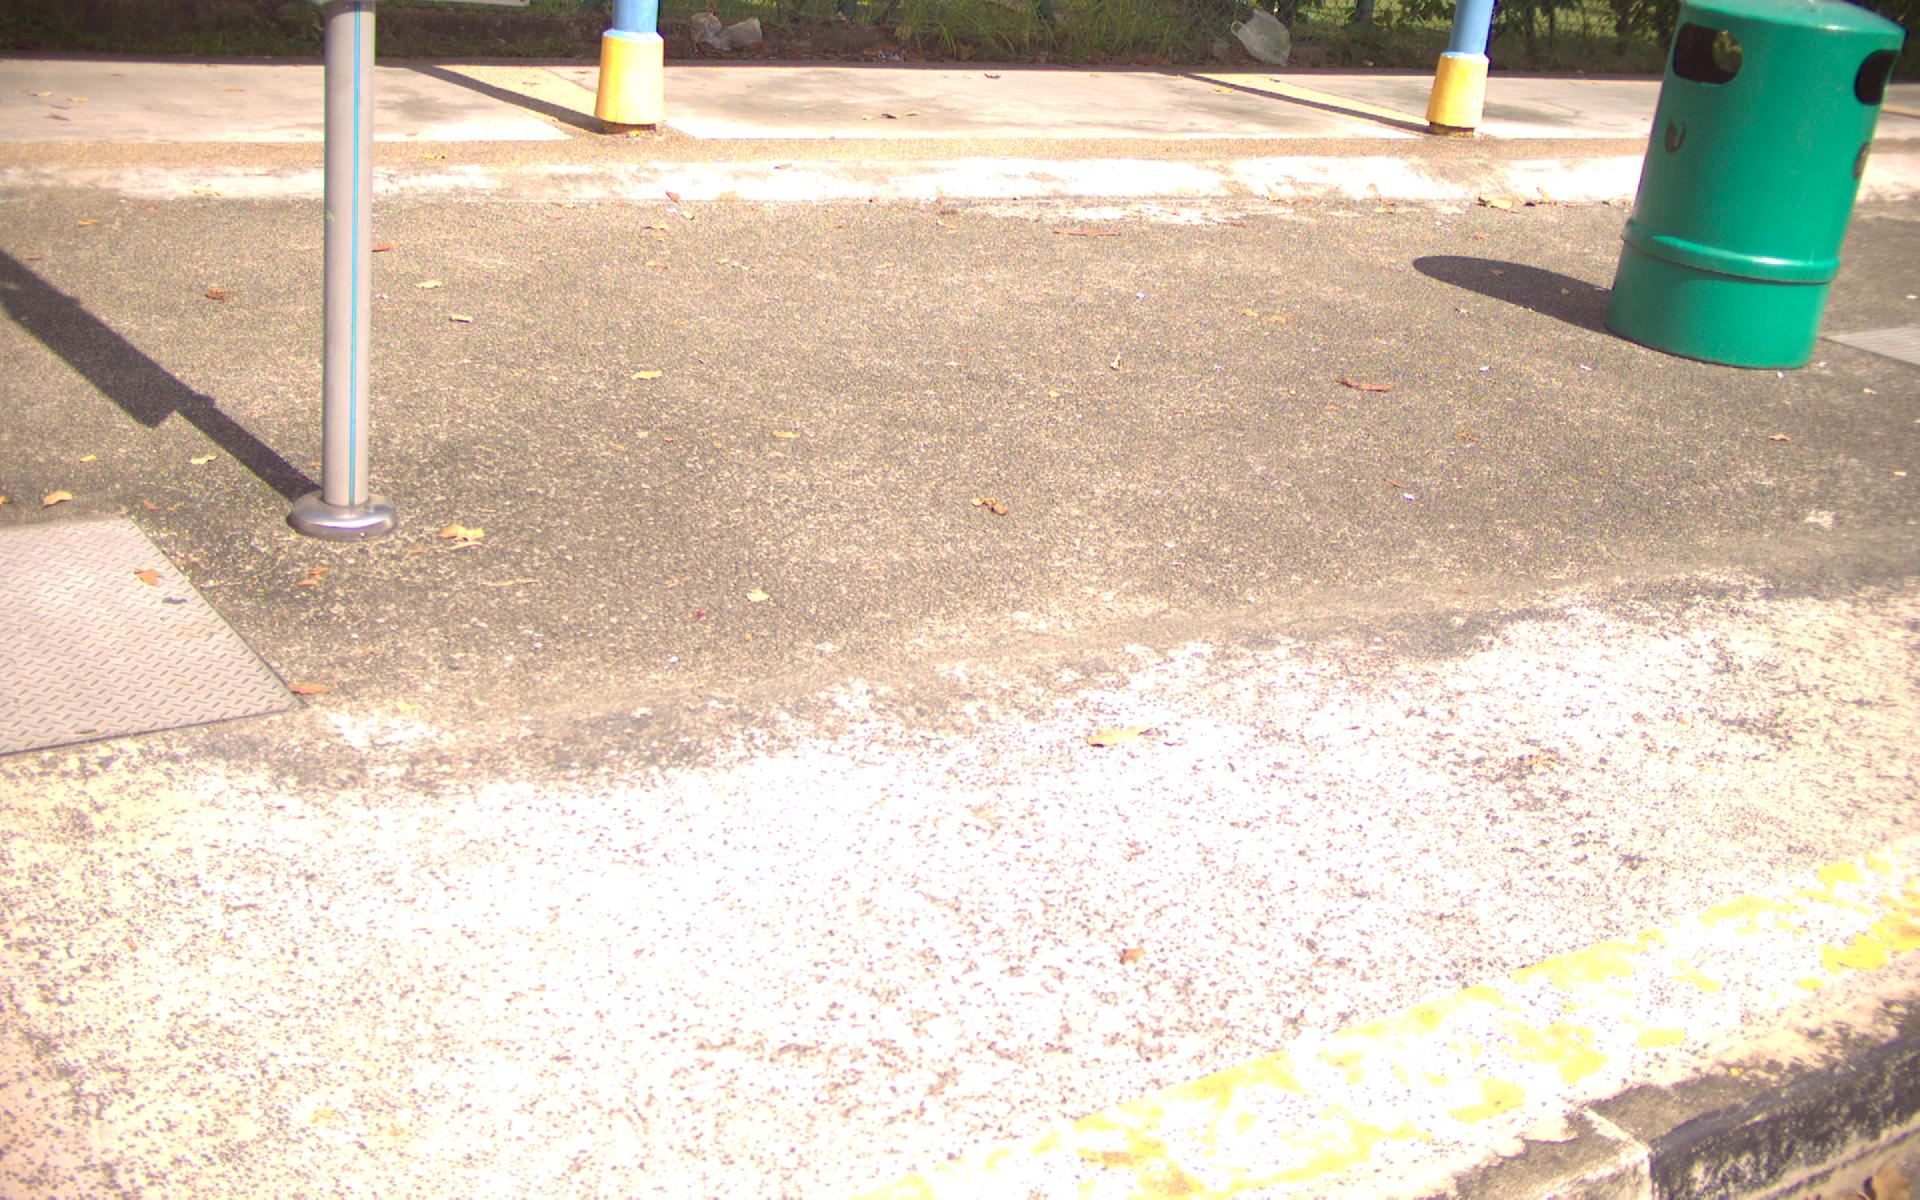dustbin_empty: (1602, 6, 1913, 395)
pathway_low: (430, 178, 1581, 1200)
